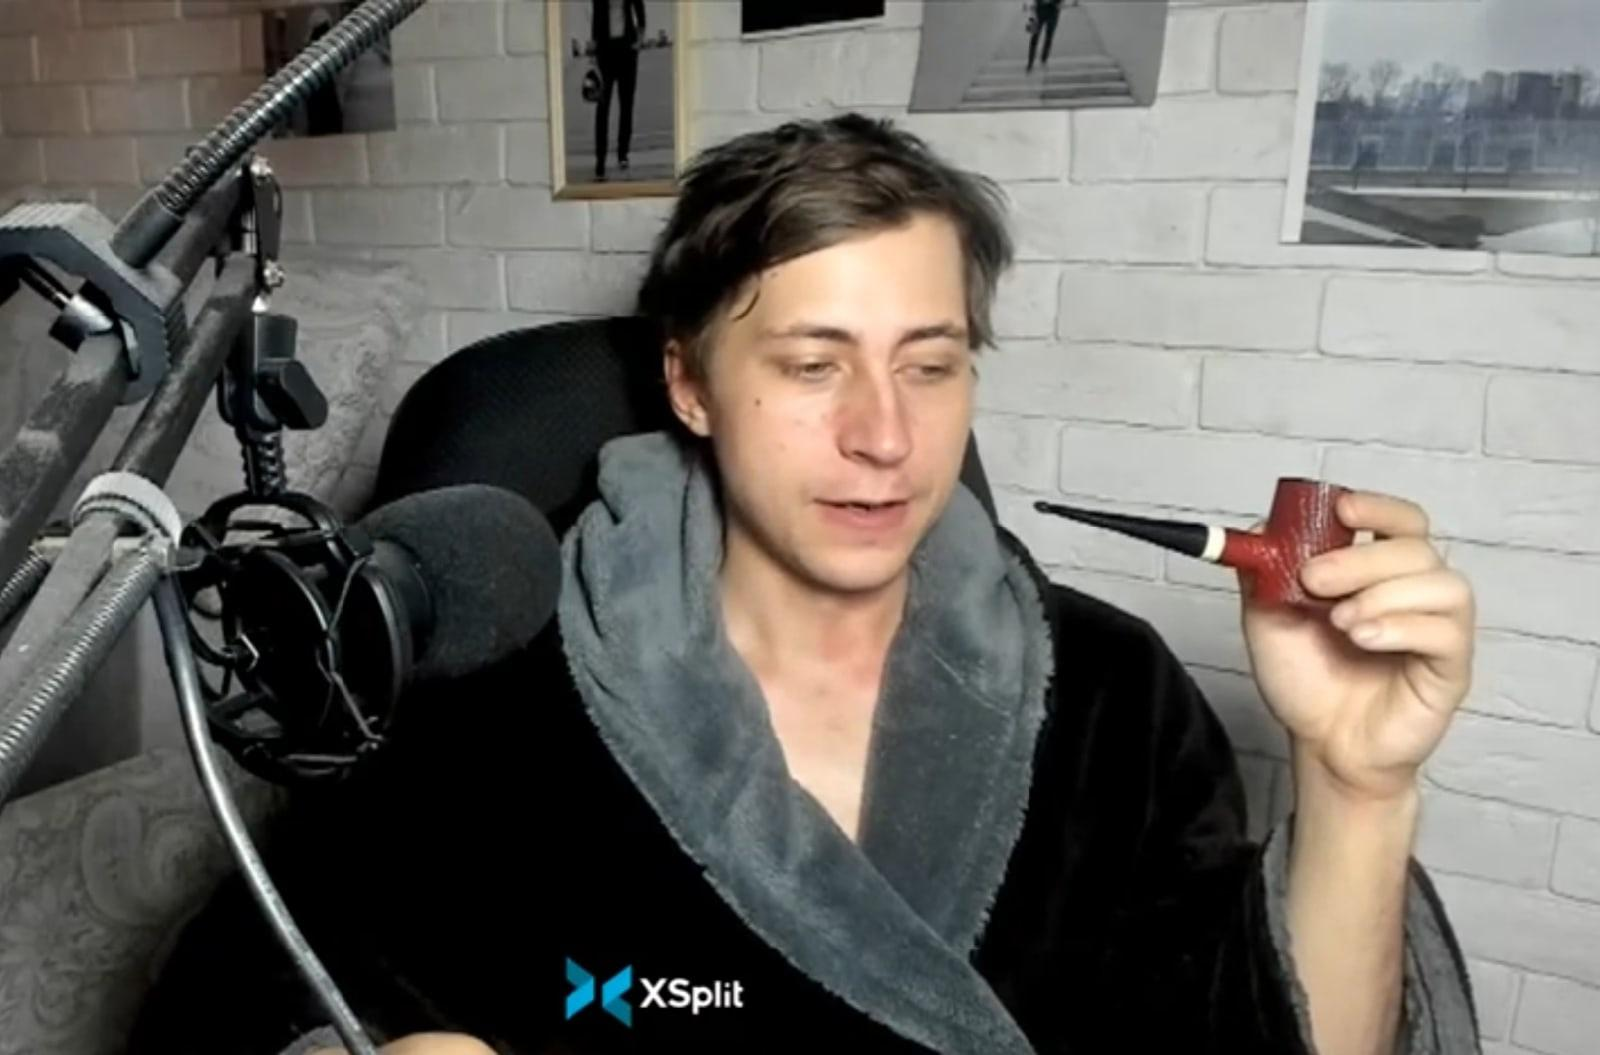trubka: (1034, 477, 1356, 608)
